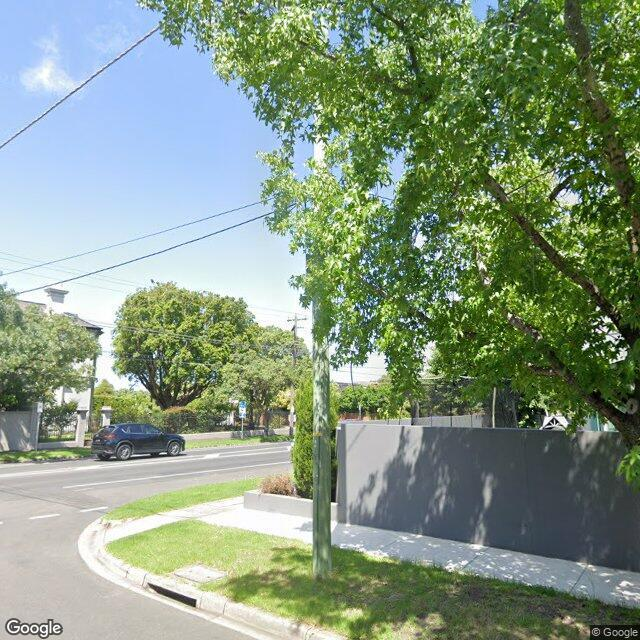timber-pole: (314, 2, 334, 576)
